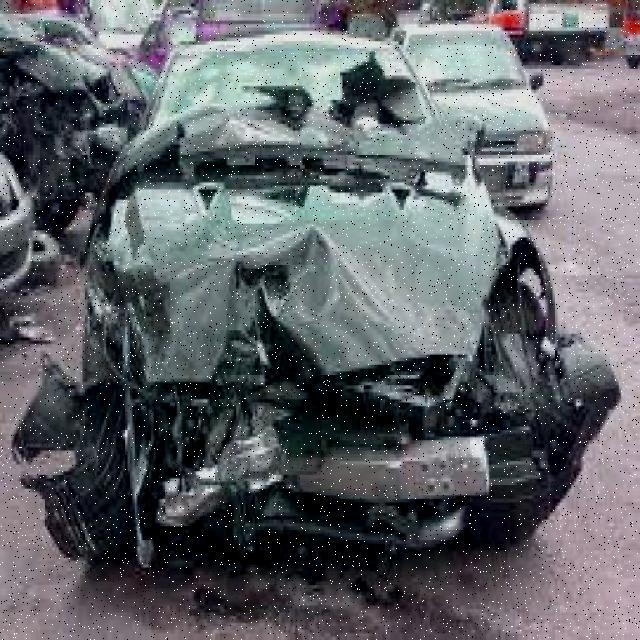car damage: (21, 56, 607, 554)
